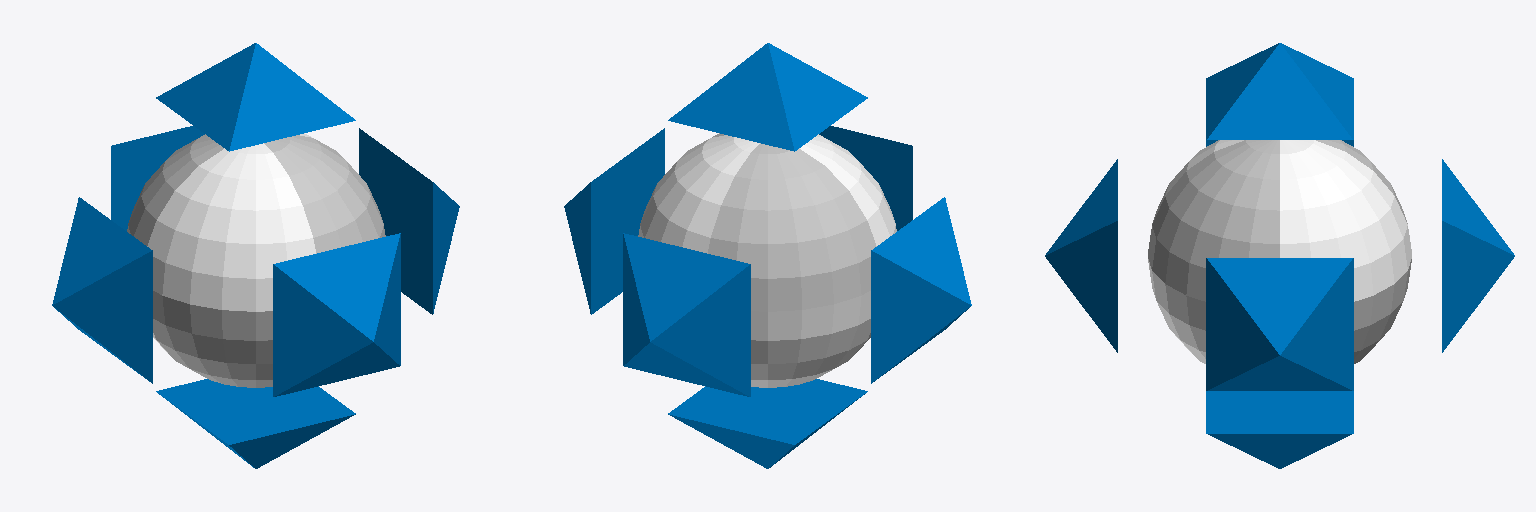
3 renders of one model, left to right at view 1: azimuth 30°, elevation 25°; view 2: azimuth 150°, elevation 25°; view 3: azimuth 270°, elevation 25°, orthographic.
Parts seen in each view (by area): view 1: entity1_brush1, entity0_brush5, entity0_brush3, entity0_brush0, entity0_brush2, entity0_brush1, entity1_brush3, entity1_brush0, entity0_brush4, entity1_brush5; view 2: entity1_brush5, entity0_brush4, entity0_brush3, entity0_brush0, entity0_brush2, entity0_brush1, entity1_brush7, entity1_brush4, entity0_brush5, entity1_brush1; view 3: entity0_brush1, entity1_brush0, entity1_brush4, entity0_brush0, entity0_brush2, entity0_brush4, entity0_brush5, entity1_brush2, entity1_brush6, entity1_brush1, entity1_brush5.
Part boxes in pixels (left/top/right/bottom): entity1_brush1: left=147, top=143, right=315, bottom=311; entity0_brush5: left=273, top=233, right=400, bottom=396; entity0_brush3: left=52, top=197, right=152, bottom=383; entity0_brush0: left=156, top=43, right=355, bottom=151; entity0_brush2: left=156, top=379, right=355, bottom=468; entity0_brush1: left=359, top=128, right=459, bottom=314; entity1_brush3: left=153, top=291, right=272, bottom=387; entity1_brush0: left=264, top=135, right=385, bottom=253; entity0_brush4: left=111, top=126, right=204, bottom=230; entity1_brush5: left=127, top=134, right=223, bottom=245; entity1_brush5: left=708, top=143, right=876, bottom=311; entity0_brush4: left=623, top=233, right=750, bottom=396; entity0_brush3: left=871, top=197, right=971, bottom=383; entity0_brush0: left=668, top=43, right=867, bottom=151; entity0_brush2: left=668, top=379, right=867, bottom=468; entity0_brush1: left=564, top=128, right=664, bottom=314; entity1_brush7: left=751, top=291, right=870, bottom=387; entity1_brush4: left=638, top=135, right=759, bottom=253; entity0_brush5: left=819, top=126, right=912, bottom=230; entity1_brush1: left=800, top=134, right=896, bottom=245; entity0_brush1: left=1206, top=258, right=1353, bottom=390; entity1_brush0: left=1148, top=140, right=1279, bottom=301; entity1_brush4: left=1280, top=140, right=1411, bottom=301; entity0_brush0: left=1206, top=43, right=1353, bottom=139; entity0_brush2: left=1206, top=391, right=1353, bottom=468; entity0_brush4: left=1442, top=159, right=1514, bottom=352; entity0_brush5: left=1045, top=159, right=1117, bottom=352; entity1_brush2: left=1148, top=259, right=1205, bottom=363; entity1_brush6: left=1354, top=259, right=1411, bottom=363; entity1_brush1: left=1152, top=140, right=1243, bottom=223; entity1_brush5: left=1316, top=140, right=1407, bottom=223.
Size of the model in its own units: 128 by 128 by 128.
Materials: 3 (2 with a texture image).